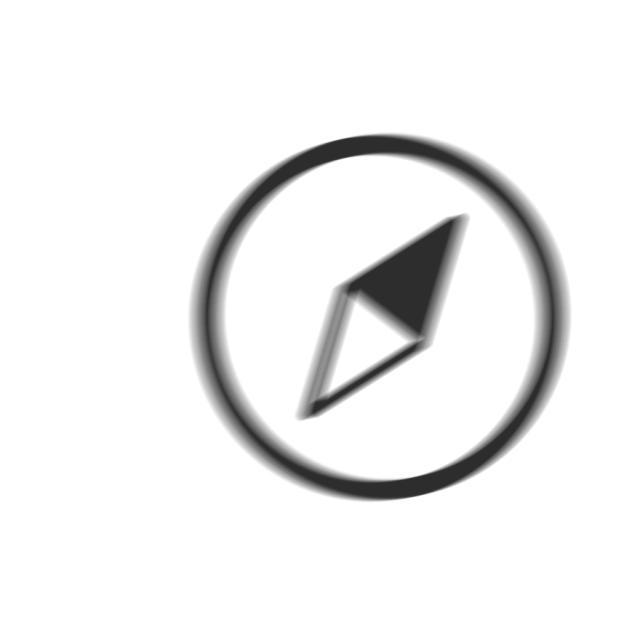compass: (172, 124, 584, 523)
